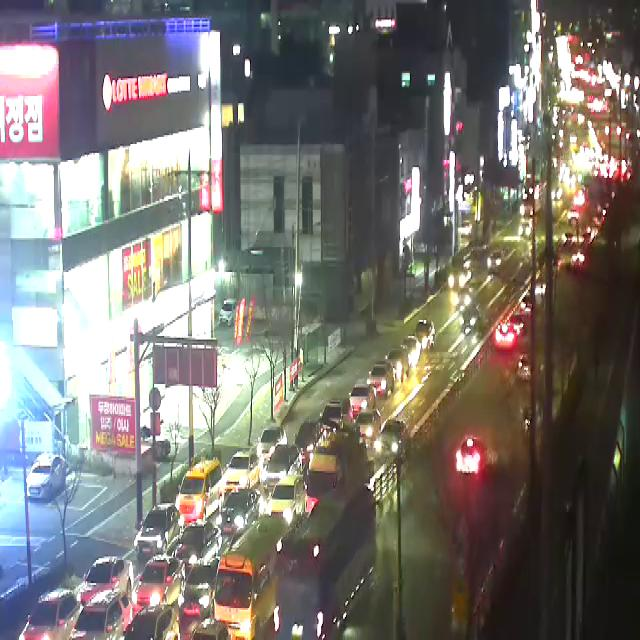Bus: (276, 480, 376, 640), (448, 250, 472, 287), (521, 182, 545, 215)
Car: (213, 517, 288, 640), (19, 589, 84, 640), (76, 556, 134, 612), (69, 589, 132, 640), (176, 461, 223, 526), (134, 503, 184, 561), (178, 556, 220, 618), (133, 556, 185, 604), (174, 520, 222, 570), (120, 603, 180, 640), (263, 474, 306, 522), (216, 489, 260, 535), (262, 444, 302, 493), (26, 454, 64, 498), (223, 451, 260, 493), (294, 420, 327, 461), (375, 419, 410, 456), (458, 438, 487, 477), (257, 427, 288, 461), (354, 410, 381, 448), (367, 361, 394, 399), (320, 399, 350, 429), (349, 383, 376, 416), (385, 348, 409, 383), (191, 620, 228, 640), (415, 319, 436, 354), (401, 334, 421, 366), (460, 305, 481, 333), (219, 298, 237, 326), (496, 324, 516, 349), (518, 353, 532, 381), (487, 251, 504, 274), (510, 314, 524, 339), (520, 295, 532, 318), (519, 218, 532, 238)
Truck: (305, 424, 375, 513)
